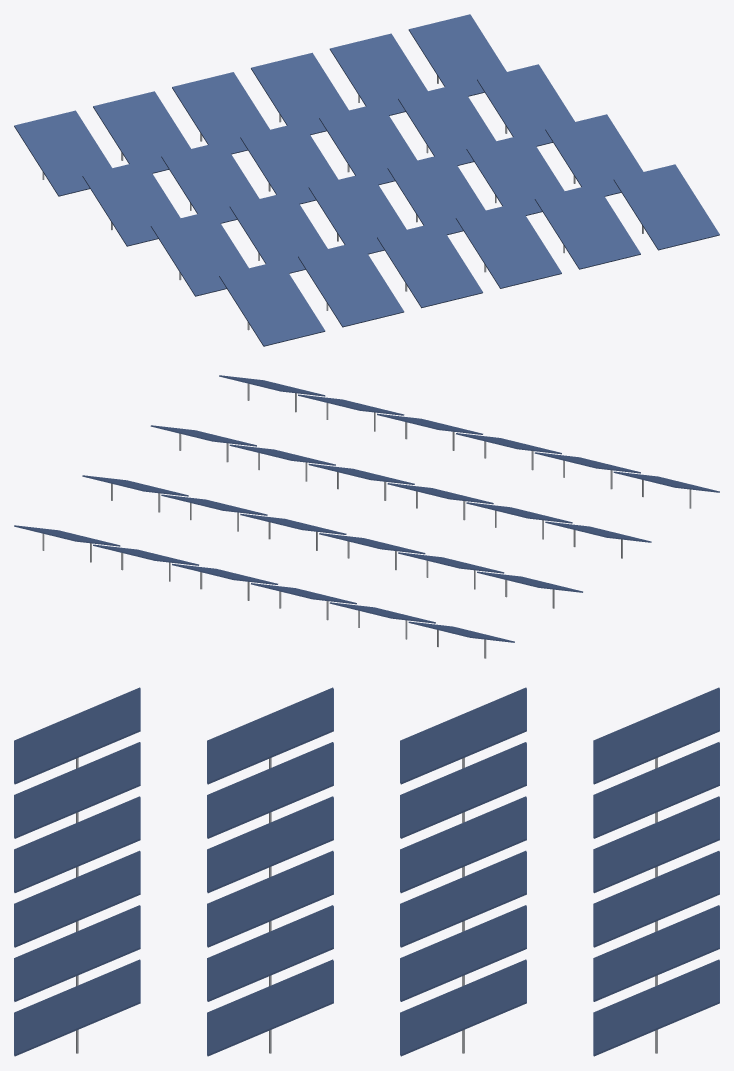
Rendered from solar_plant.glb.
3 views of the same model, one above another, from view 1: azimuth 30°, elevation 25°; view 2: azimuth 150°, elevation 25°; view 3: azimuth 270°, elevation 25° (orthographic). The views are drawn at different scales.
Visible parts, largest first — view 1: Cube; view 2: Cube, Cylinder; view 3: Cube, Cylinder.
Boxes of the visible parts, <box> form: Cube: <box>14,14,719,346</box>; Cube: <box>14,375,719,642</box>; Cylinder: <box>42,383,691,658</box>; Cube: <box>14,687,719,1056</box>; Cylinder: <box>76,757,657,1053</box>.
Size of the model in its own units: 38.53 by 3.22 by 36.57.
